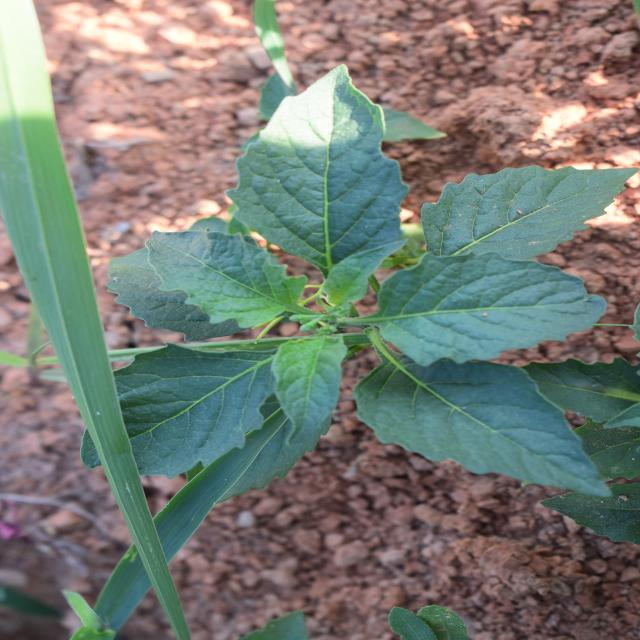Black_nightshade: (167, 112, 552, 597)
